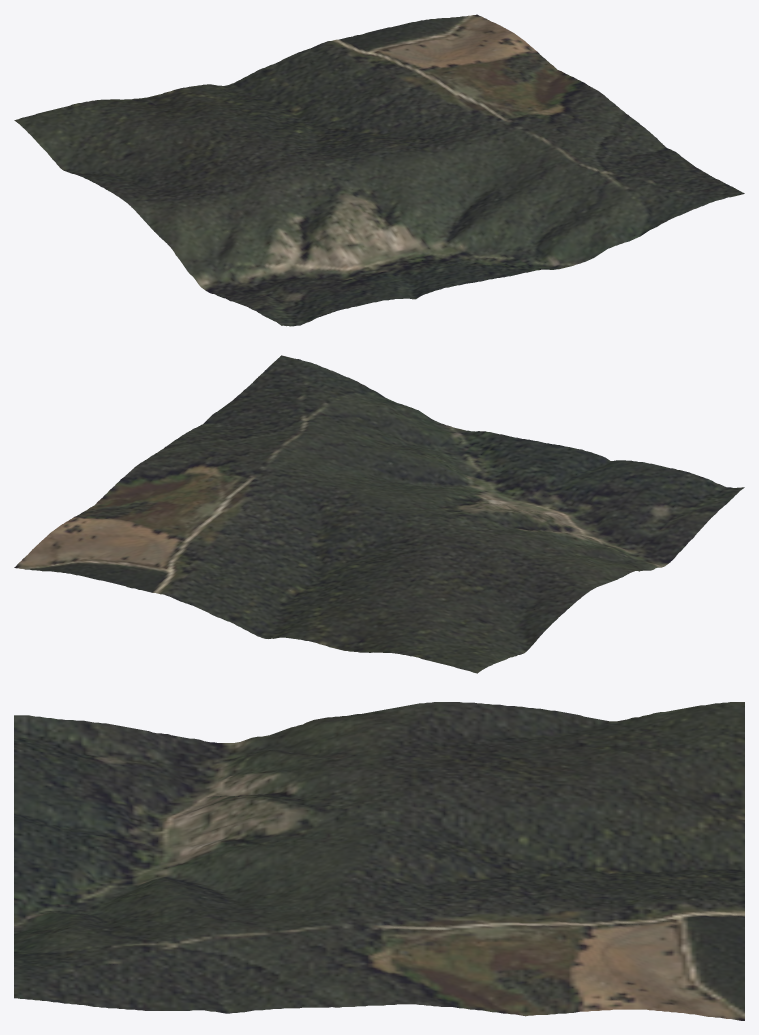
The model's file is tile_4_0.glb.
3 renders of one model, top to bottom at view 1: azimuth 30°, elevation 25°; view 2: azimuth 150°, elevation 25°; view 3: azimuth 270°, elevation 25°, orthographic. The views are drawn at different scales.
Parts seen in each view (by area): view 1: tile_4_0; view 2: tile_4_0; view 3: tile_4_0.
Part boxes in pixels (x1,y1,x2,y2): tile_4_0: (14, 14, 744, 326); tile_4_0: (14, 355, 744, 673); tile_4_0: (14, 702, 744, 1020).
Size of the model in its own units: 1000 by 86 by 1000.
1 material, 1 textured.
